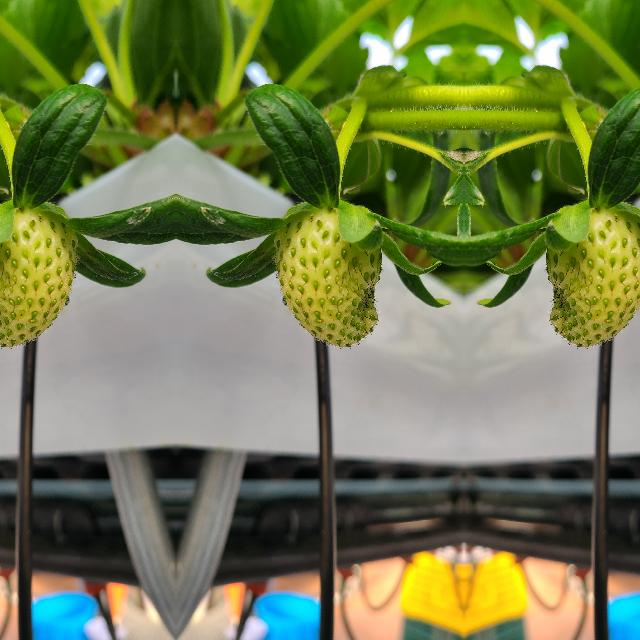Health_25: (272, 208, 383, 348), (542, 208, 640, 348), (0, 208, 77, 348)
